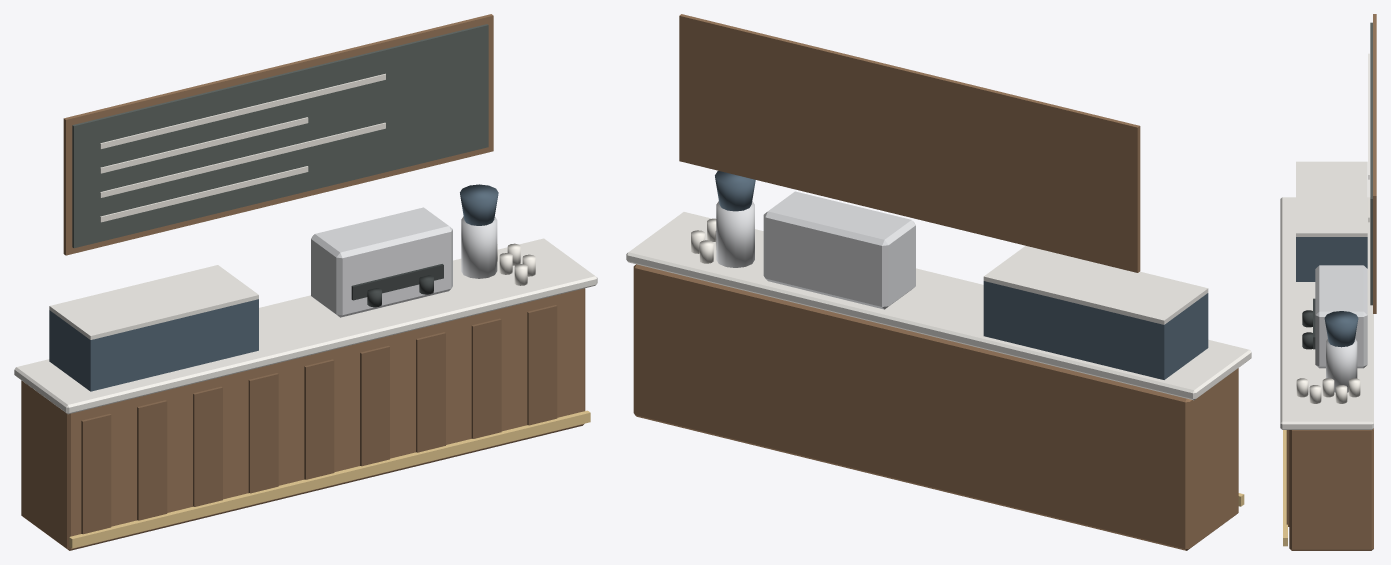
File: cafe-counter.glb
The picture shows the model from 3 angles, left to right: view 1: azimuth 30°, elevation 25°; view 2: azimuth 150°, elevation 25°; view 3: azimuth 270°, elevation 25°; orthographic projection. The views are drawn at different scales.
Visible parts, largest first — view 1: cafe-counter; view 2: cafe-counter; view 3: cafe-counter.
Part boxes in pixels (x1,y1,x2,y2): cafe-counter: [14, 14, 597, 550]; cafe-counter: [626, 14, 1251, 550]; cafe-counter: [1280, 14, 1376, 550].
Size of the model in its own units: 4.1 by 2.85 by 0.74.
